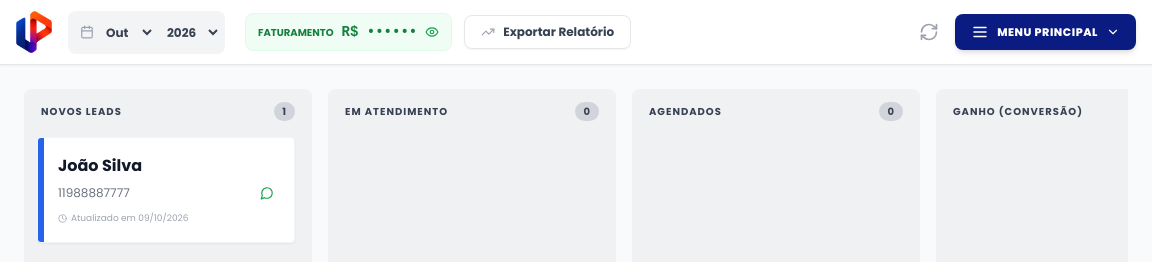
Test: KanbanPage › Faturamento e exportação pelas vendas do mês (T13 — CA-10) › o cabeçalho soma as vendas do mês, inclusive a de um lead Perdido que não está no quadro
The image size is (1152, 262).
Click the 1st button at point(432, 32), box [425,25,439,39]
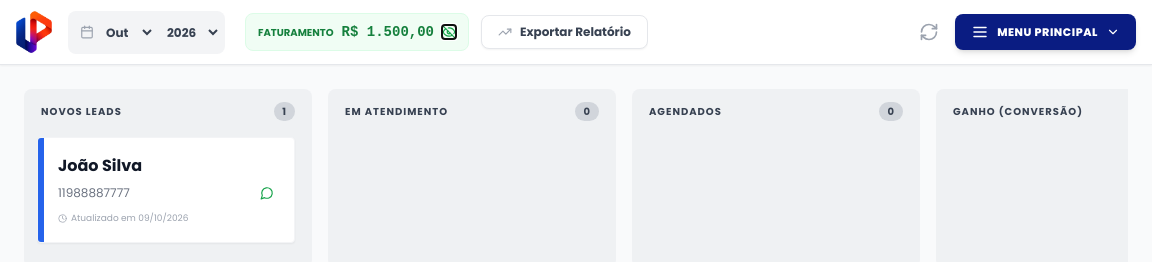
Expected: the text "R$ 1.500,00" is shown, [342,22,434,42]
